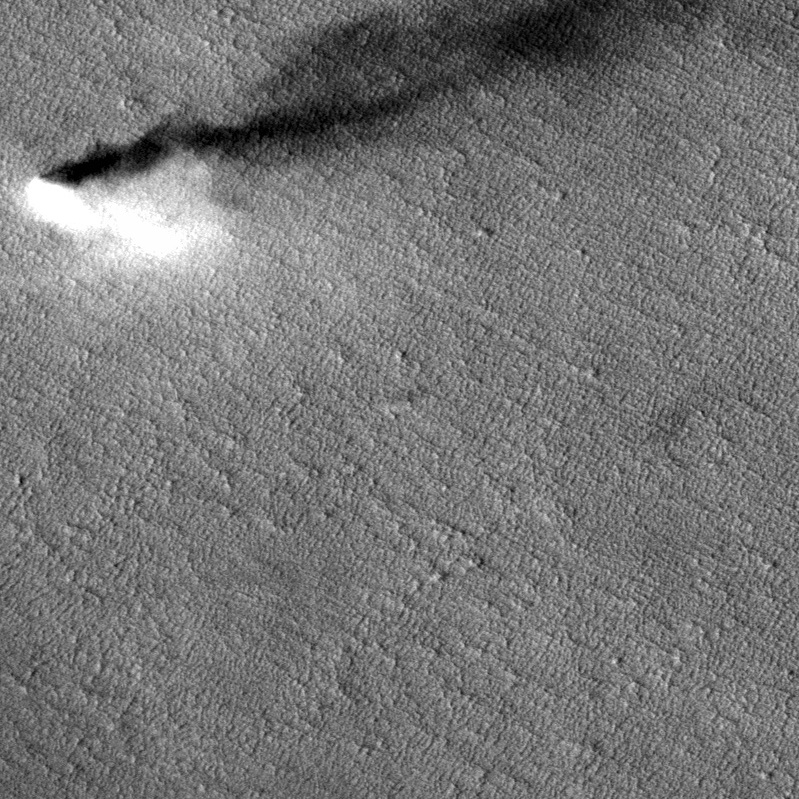dust_devil: (14, 1, 677, 272)
